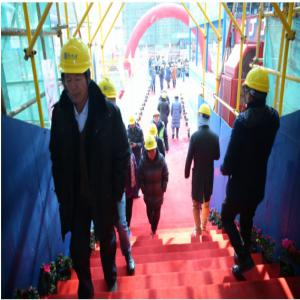white: (153, 110, 161, 125)
yellow: (60, 37, 92, 106), (243, 68, 273, 108), (197, 105, 212, 128), (145, 136, 158, 161), (129, 116, 137, 130)
